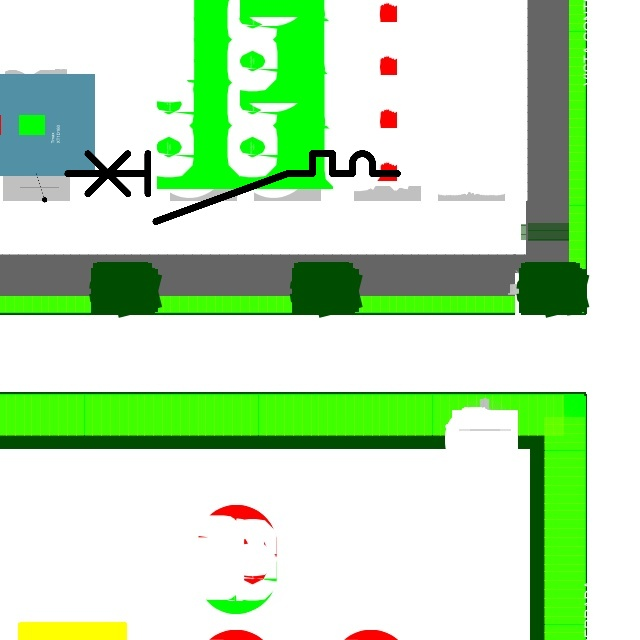interruptor_termomagnetico: (59, 145, 405, 229)
